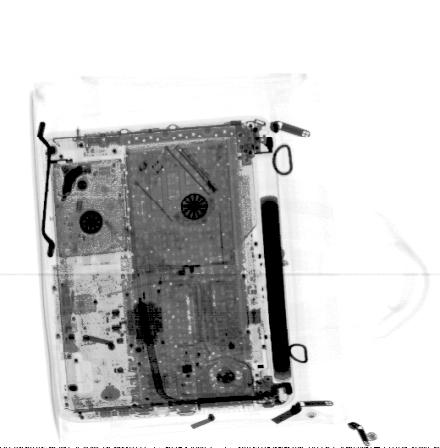Wrench: (35, 120, 57, 259)
